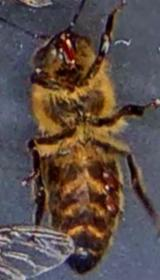varroa_mite: (94, 160, 124, 194)
